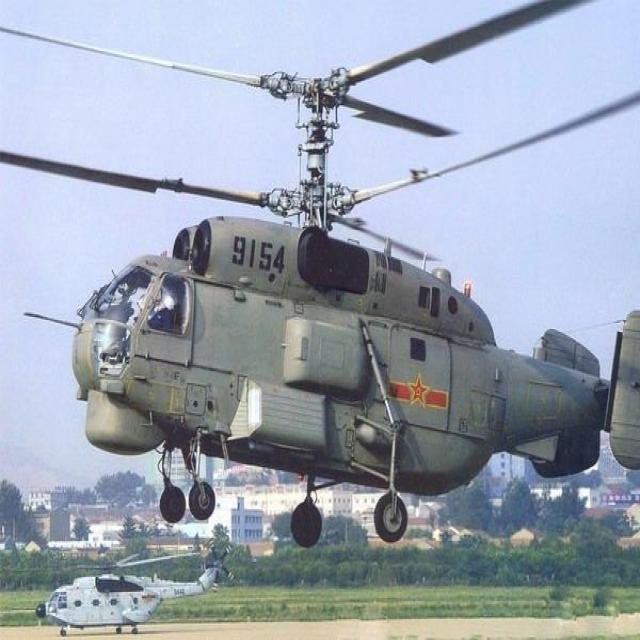MIL_HELO: (0, 0, 640, 562), (12, 550, 248, 640)
